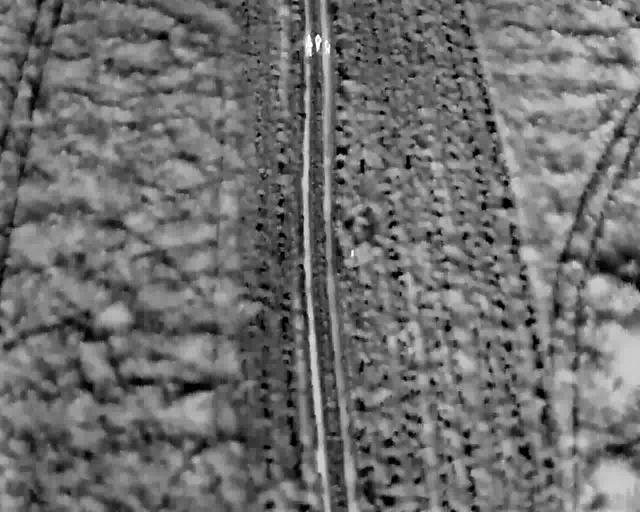person: (313, 33, 323, 53), (322, 37, 332, 56), (304, 40, 314, 59), (303, 33, 313, 52)
